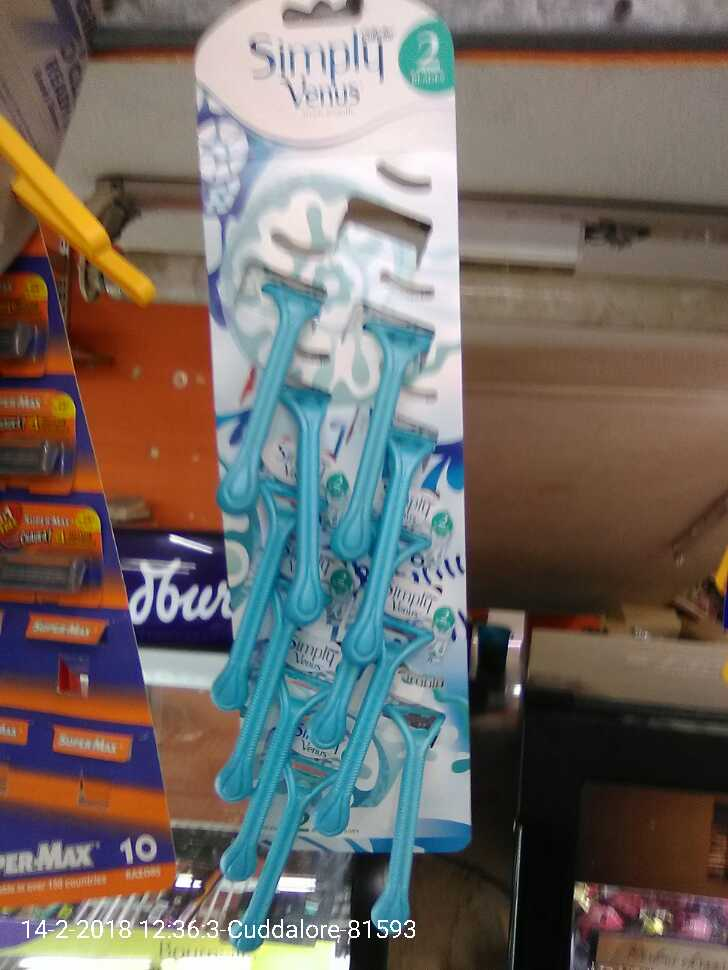reject: (253, 307, 468, 505)
